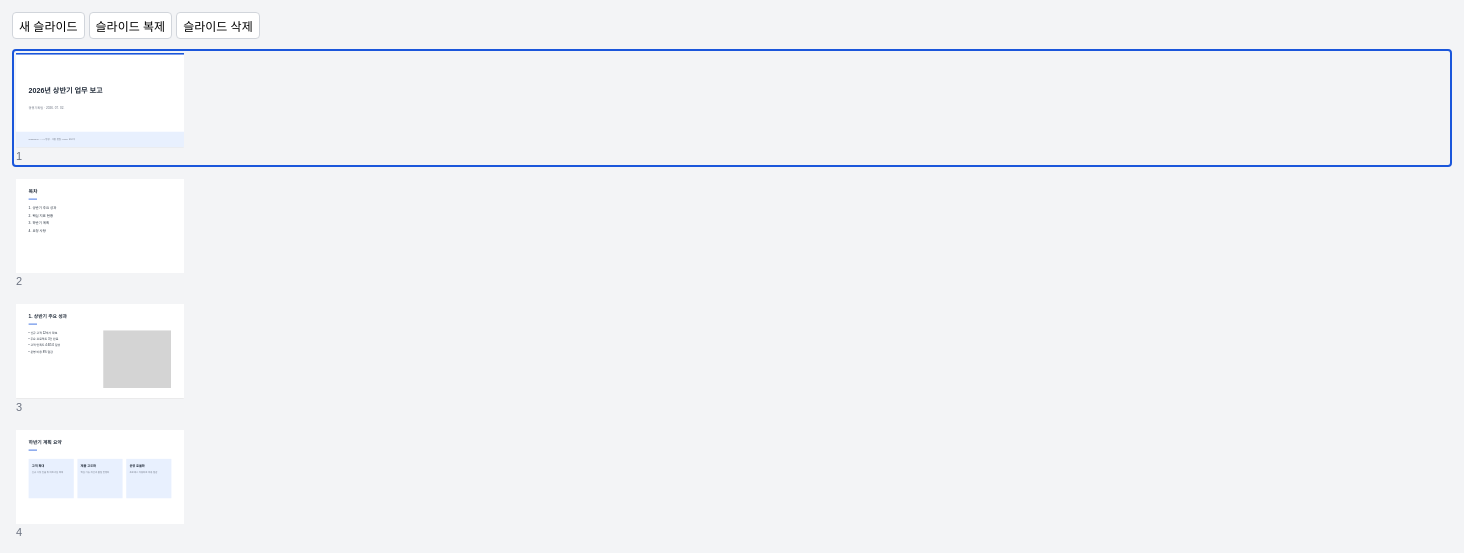
Test case: 새 슬라이드 버튼은 레이아웃 팝오버를 열고, 선택 시 키를 전달한다
Click the button "새 슬라이드".
click(48, 26)  # box [12, 12, 84, 39]
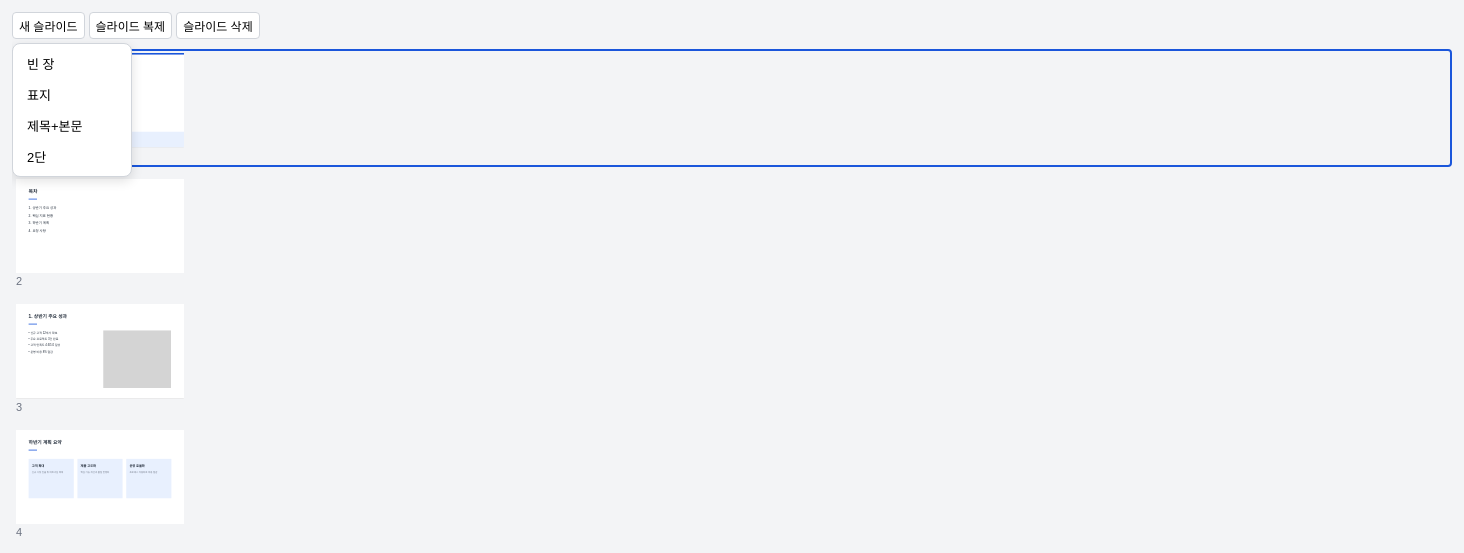
Now the menu is shown, box [12, 43, 132, 177]
Click the menu item "제목+본문".
click(72, 126)  # box [17, 110, 127, 141]
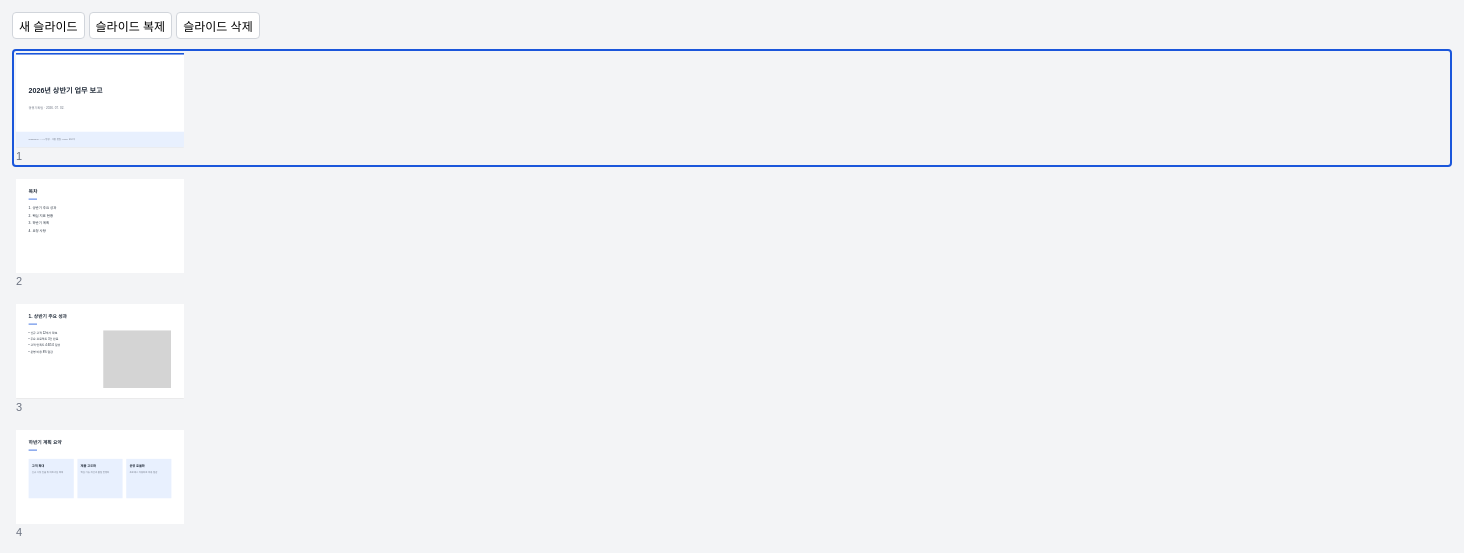
Now the menu is gone
